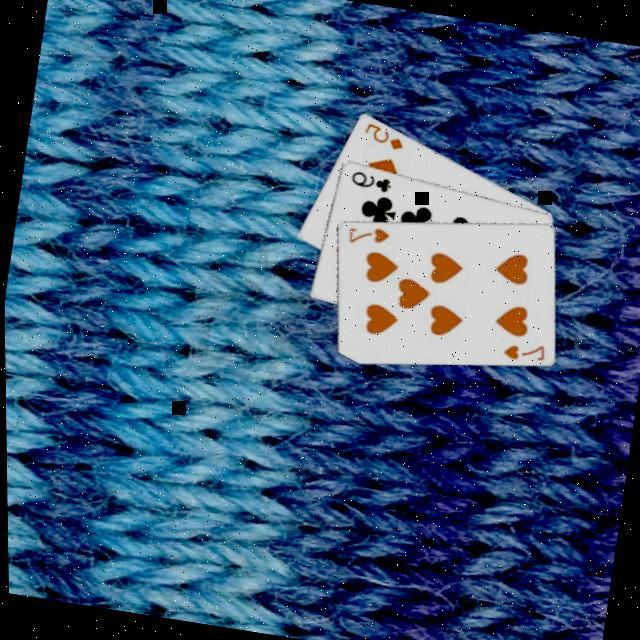5D: (359, 120, 409, 156)
7H: (343, 222, 393, 254), (498, 338, 548, 370)
9C: (346, 168, 395, 199)
